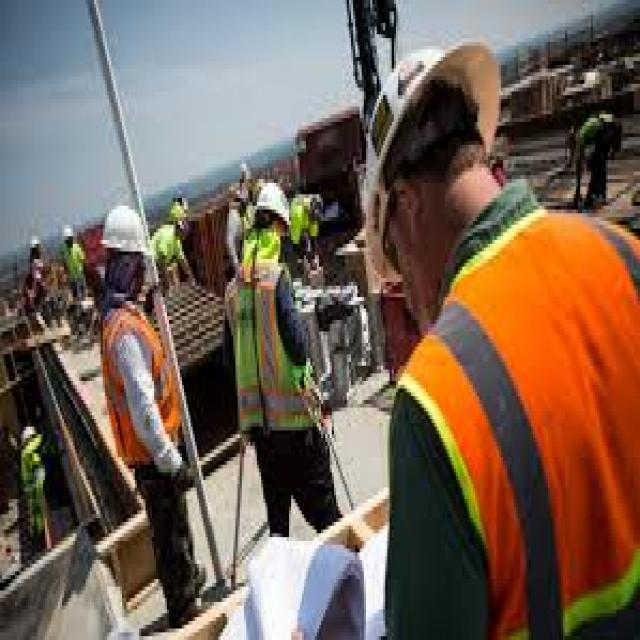Reflective-Jacket: (374, 205, 640, 628), (223, 229, 321, 457), (92, 294, 188, 476)
Safety-Helmet: (362, 23, 518, 202), (286, 529, 368, 640), (96, 194, 154, 274), (244, 168, 295, 236), (58, 217, 79, 248)
